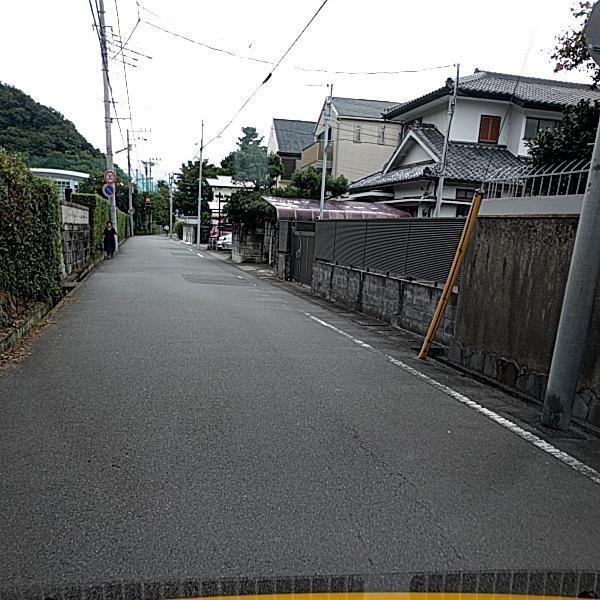D00: (329, 410, 469, 570)
